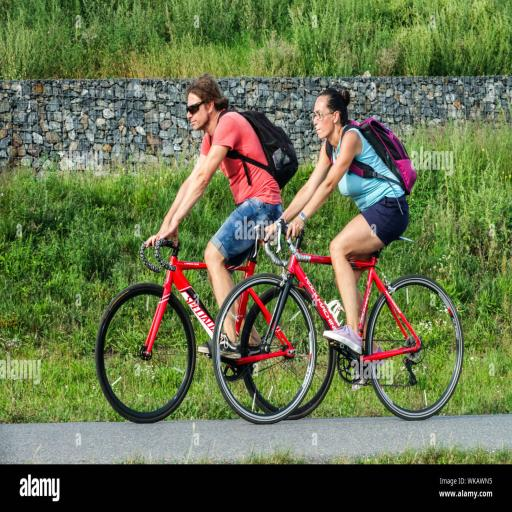no_helm: (171, 62, 243, 147), (302, 72, 363, 160)
